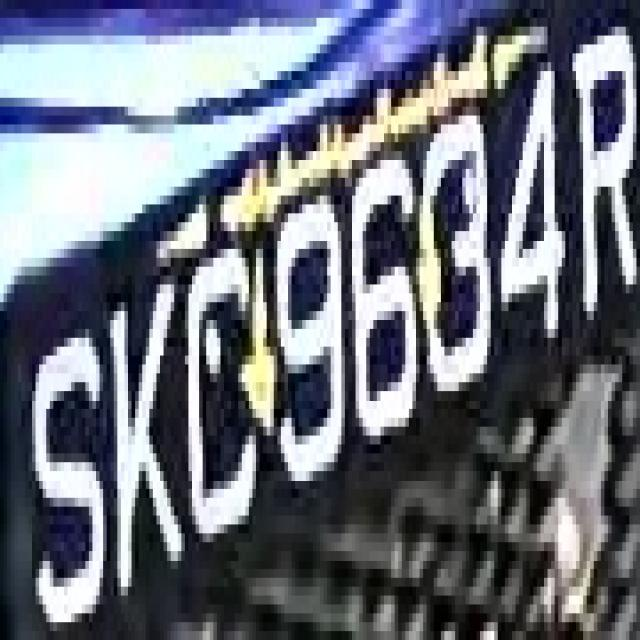3: (416, 106, 498, 426)
4: (490, 71, 580, 347)
6: (342, 124, 419, 444)
9: (274, 196, 348, 507)
C: (182, 249, 260, 542)
K: (110, 267, 178, 613)
R: (558, 27, 636, 329)
S: (0, 4, 1, 9)
